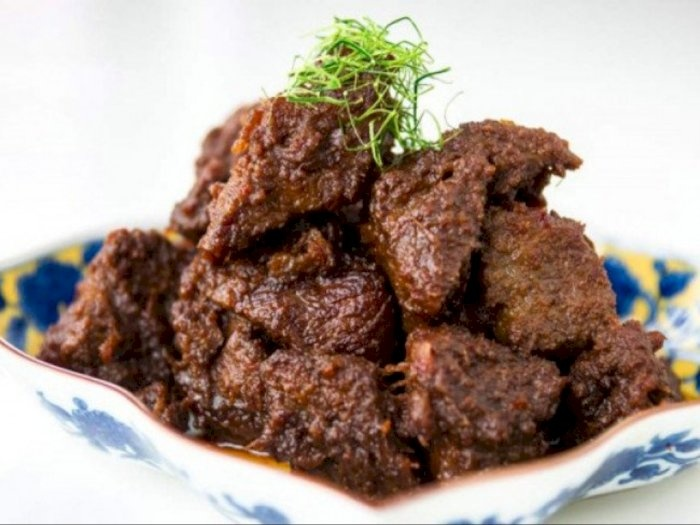rendang: (35, 112, 680, 474)
